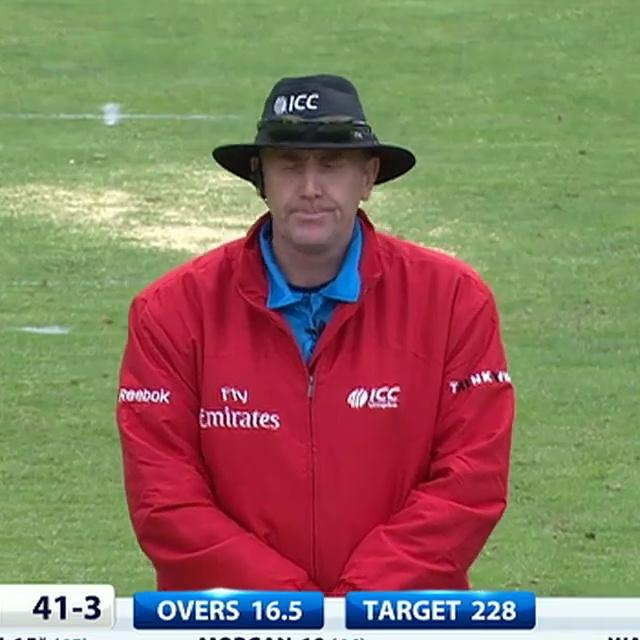umpire: (87, 41, 543, 594)
